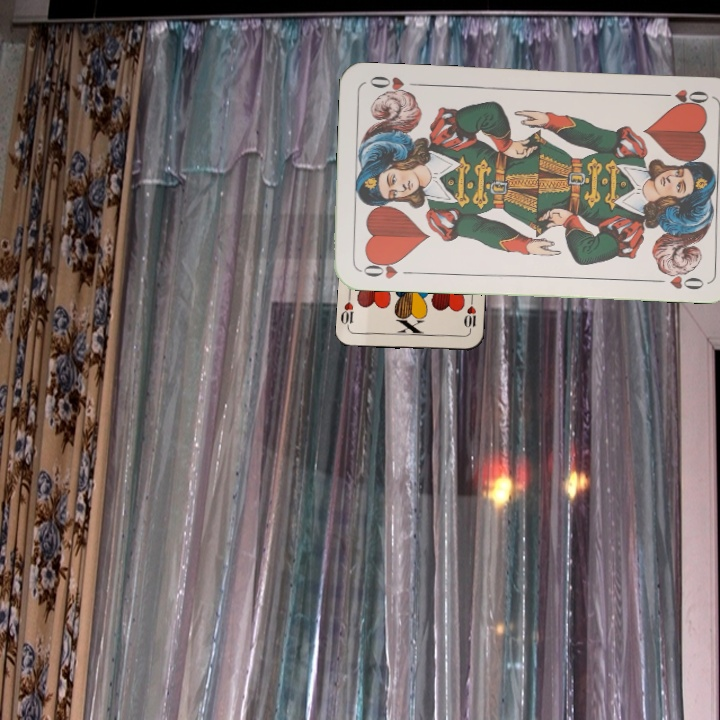H10: (460, 295, 478, 336)
HO: (357, 255, 416, 281), (654, 85, 712, 109)
